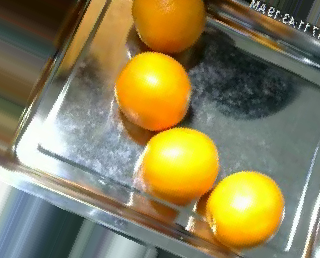Orange: (138, 125, 219, 205), (113, 51, 192, 131), (205, 170, 285, 249), (129, 1, 205, 53)
